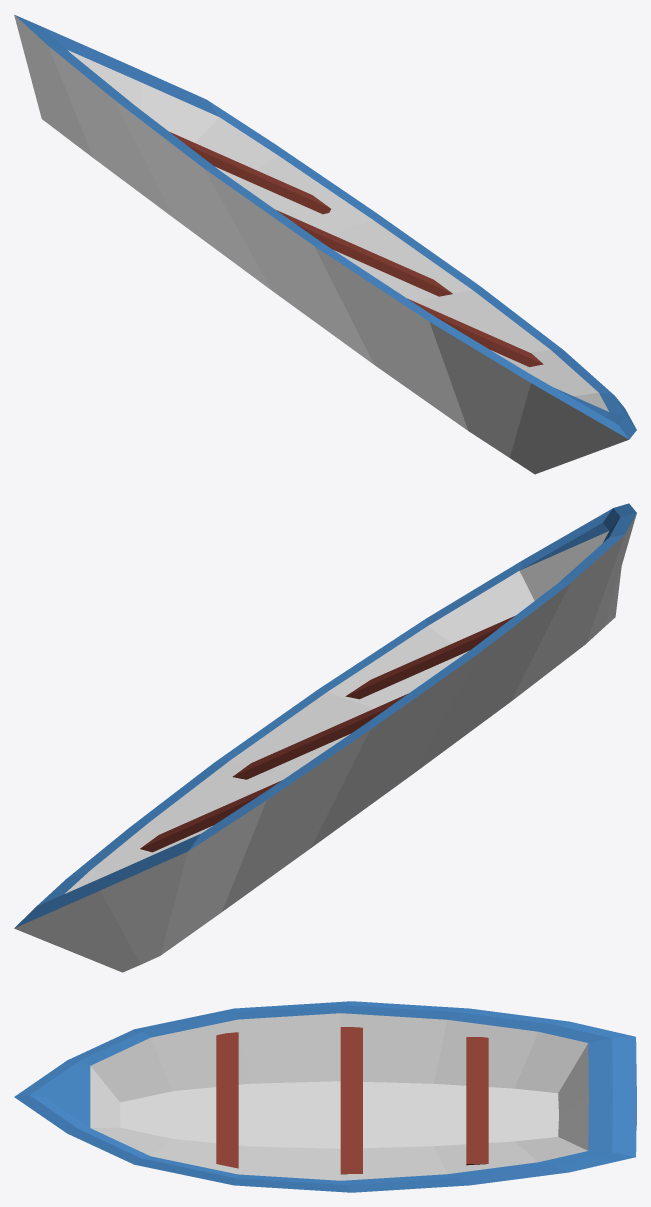
The model's file is Boat.glb.
3 views of the same model, one above another, from view 1: azimuth 30°, elevation 25°; view 2: azimuth 150°, elevation 25°; view 3: azimuth 270°, elevation 25° (orthographic). The views are drawn at different scales.
Visible parts, largest first — view 1: Circle_Material.004_0, Circle_Material.003_0, Cube_Material.001_0, Cube.001_Material.001_0, Cube.002_Material.001_0; view 2: Circle_Material.004_0, Circle_Material.003_0, Cube_Material.001_0, Cube.002_Material.001_0, Cube.001_Material.001_0; view 3: Circle_Material.004_0, Circle_Material.003_0, Cube_Material.001_0, Cube.002_Material.001_0, Cube.001_Material.001_0.
Boxes of the visible parts, x1=… form: Circle_Material.004_0: x1=14, y1=15, x2=628, y2=474; Circle_Material.003_0: x1=15, y1=15, x2=636, y2=439; Cube_Material.001_0: x1=275, y1=209, x2=452, y2=296; Cube.001_Material.001_0: x1=170, y1=132, x2=330, y2=214; Cube.002_Material.001_0: x1=407, y1=298, x2=543, y2=367; Circle_Material.004_0: x1=14, y1=514, x2=636, y2=972; Circle_Material.003_0: x1=15, y1=503, x2=636, y2=927; Cube_Material.001_0: x1=232, y1=693, x2=408, y2=779; Cube.002_Material.001_0: x1=345, y1=616, x2=514, y2=699; Cube.001_Material.001_0: x1=140, y1=780, x2=281, y2=852; Circle_Material.004_0: x1=90, y1=1013, x2=636, y2=1180; Circle_Material.003_0: x1=14, y1=1001, x2=636, y2=1192; Cube_Material.001_0: x1=340, y1=1027, x2=362, y2=1174; Cube.002_Material.001_0: x1=216, y1=1032, x2=238, y2=1168; Cube.001_Material.001_0: x1=466, y1=1037, x2=488, y2=1165.
Size of the model in its own units: 1.67 by 1.1 by 5.53.
